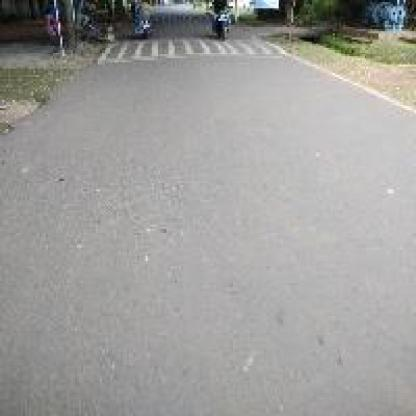Speed Bump: (100, 40, 214, 62)
